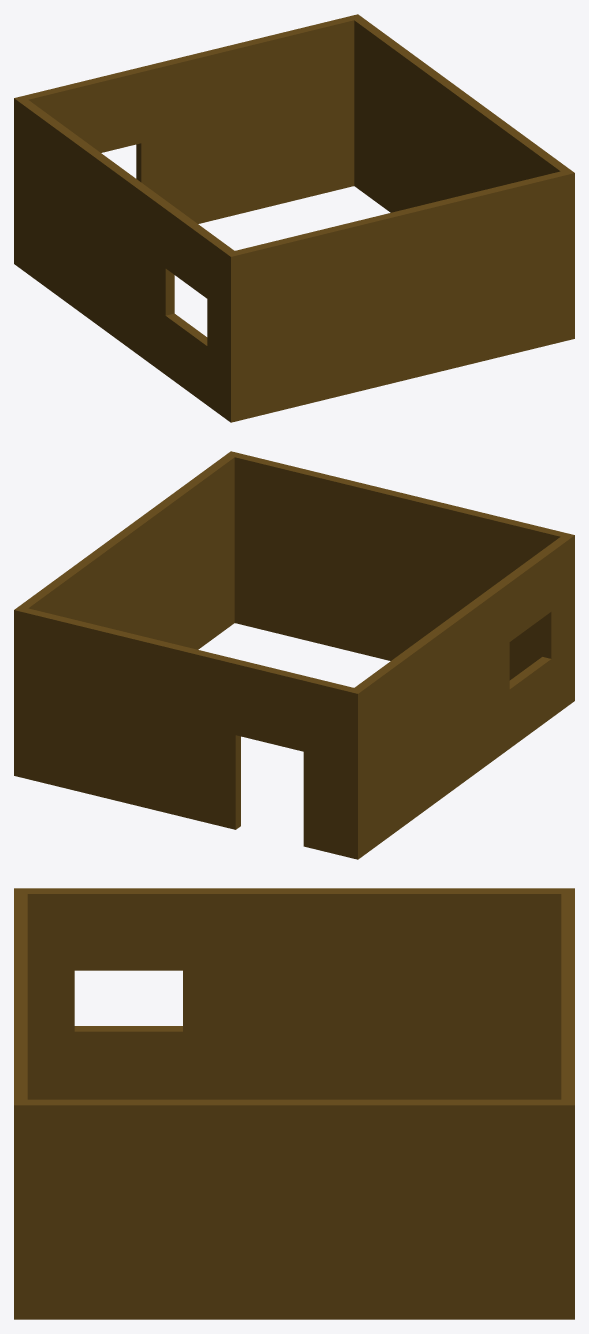
The model's file is walls.fbx.
3 views of the same model, one above another, from view 1: azimuth 30°, elevation 25°; view 2: azimuth 150°, elevation 25°; view 3: azimuth 270°, elevation 25° (orthographic). The views are drawn at different scales.
Visible parts, largest first — view 1: walls; view 2: walls; view 3: walls.
Boxes of the visible parts, x1,y1,x2,y2 form: walls: [14, 14, 574, 422]; walls: [14, 451, 574, 859]; walls: [14, 888, 574, 1319].
Bounding box in the file's own units: 760 × 830 × 350.
